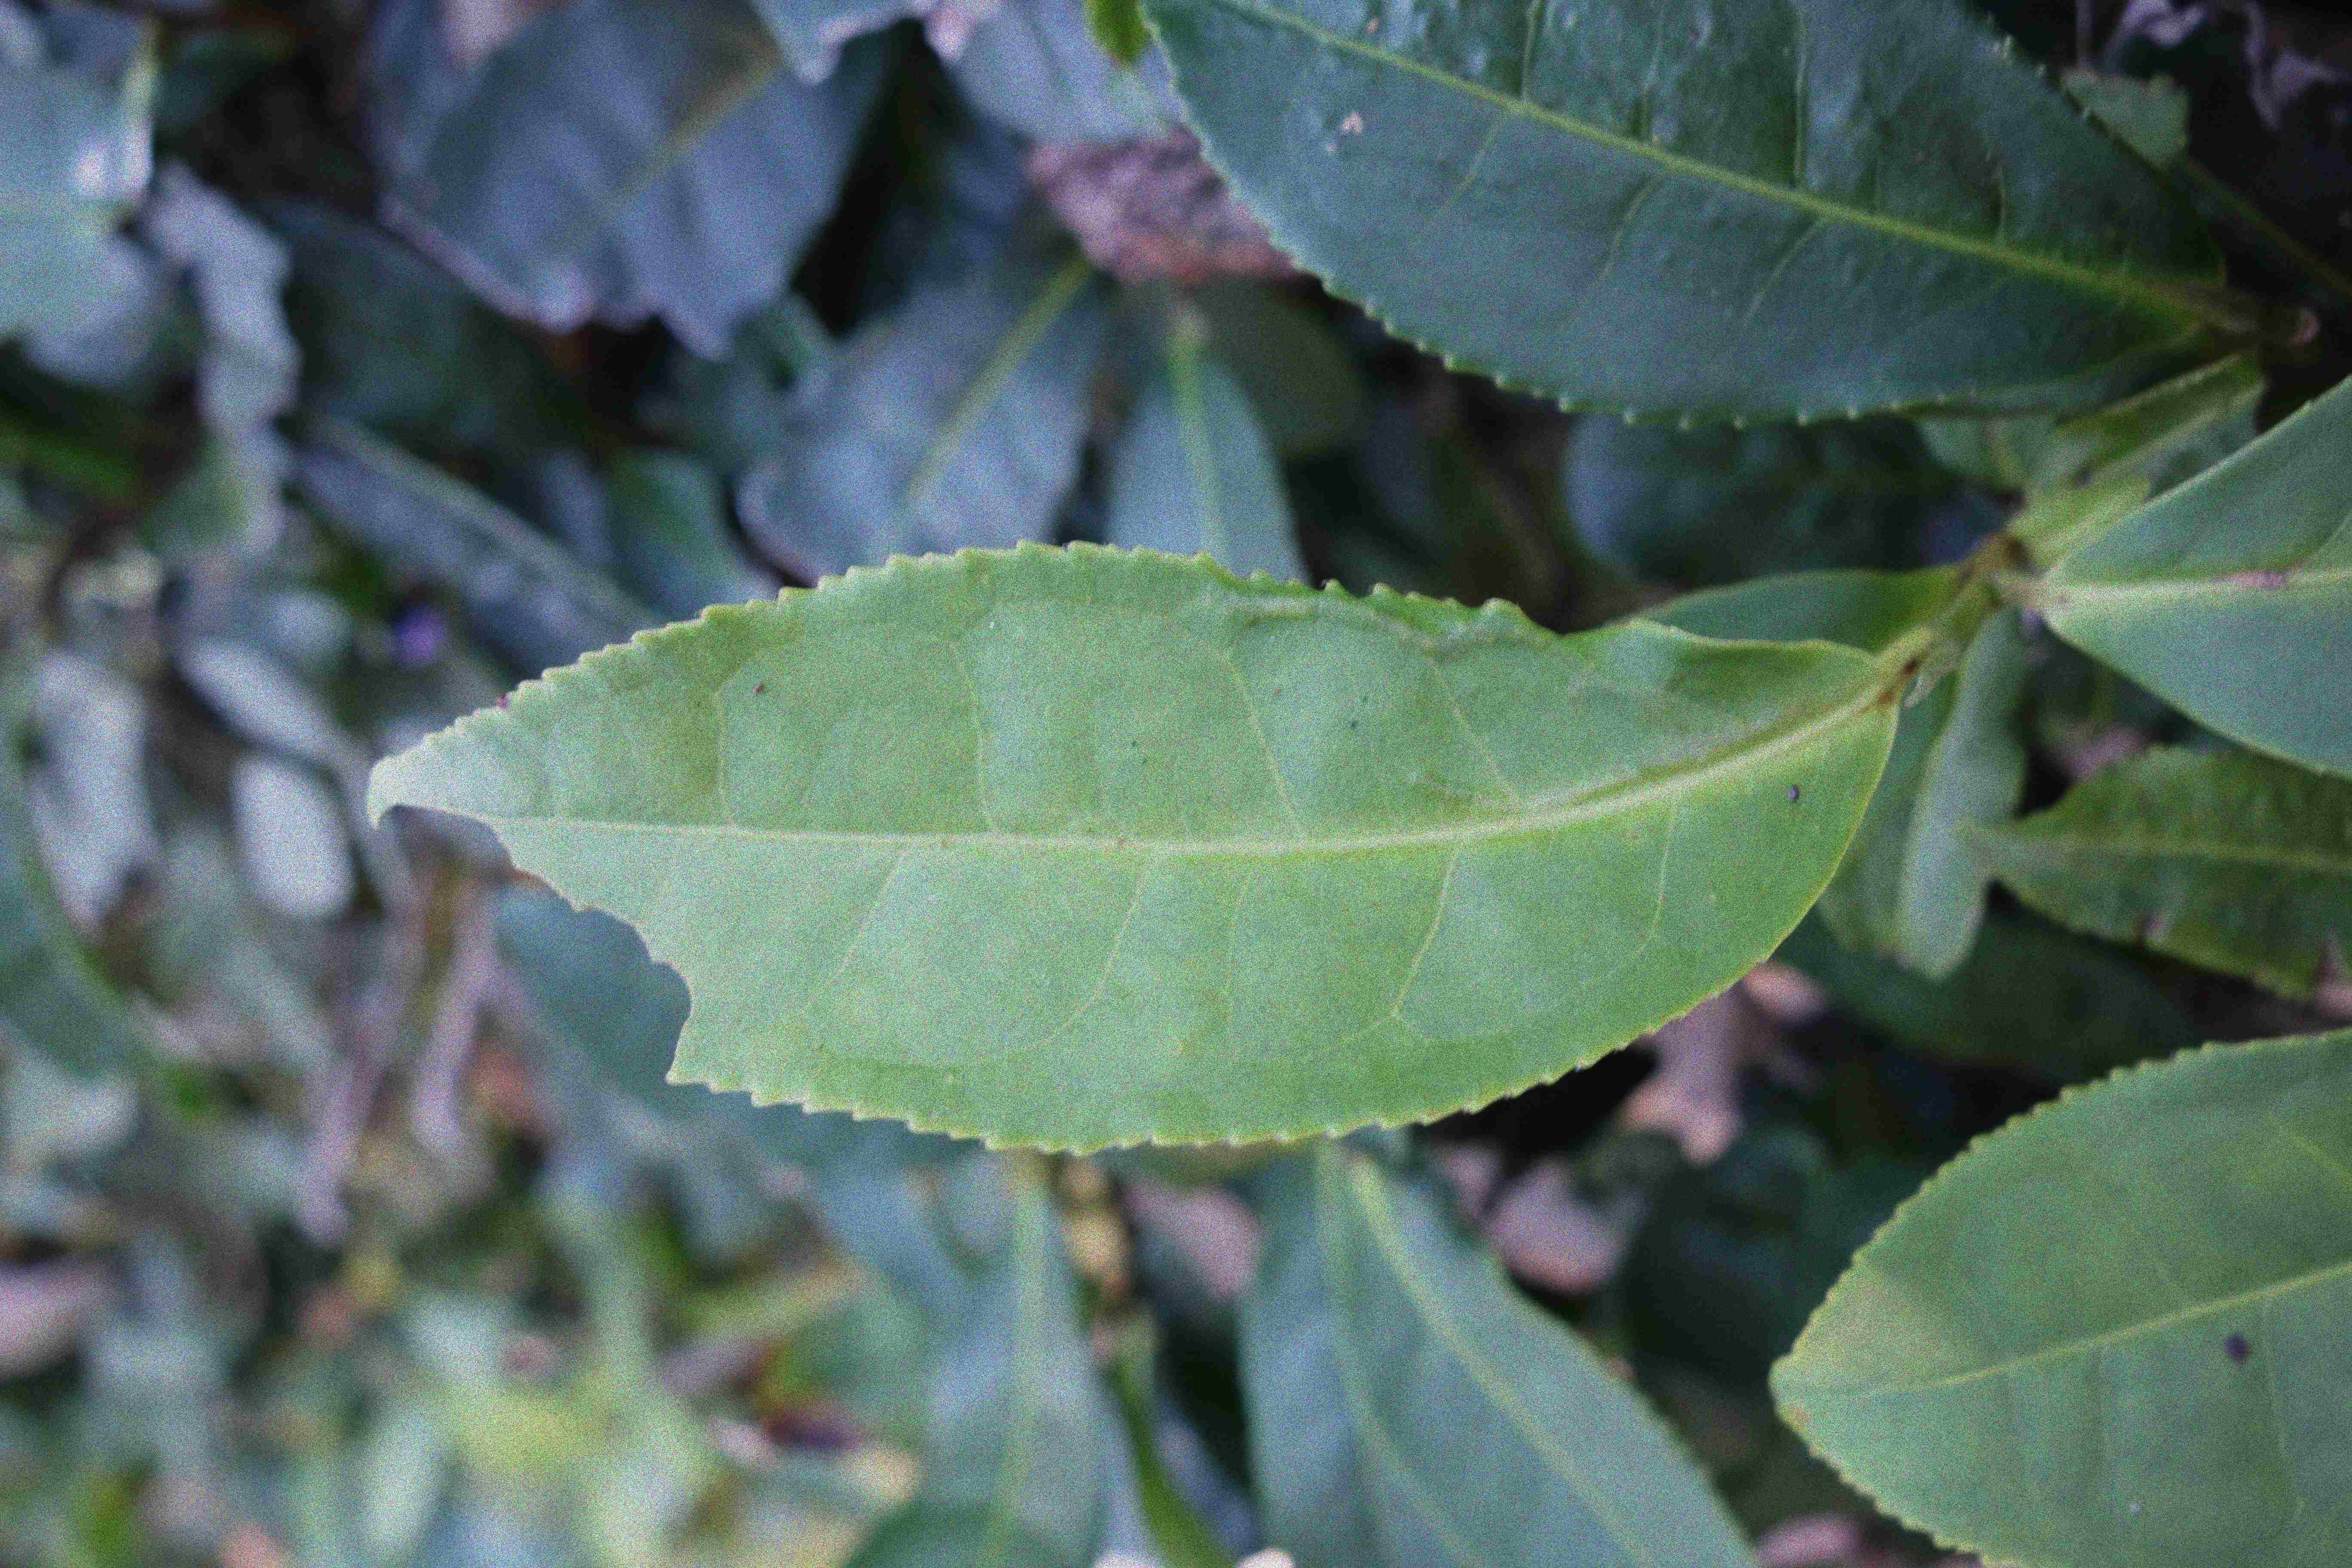chihuo_low: (360, 539, 1897, 1160)
